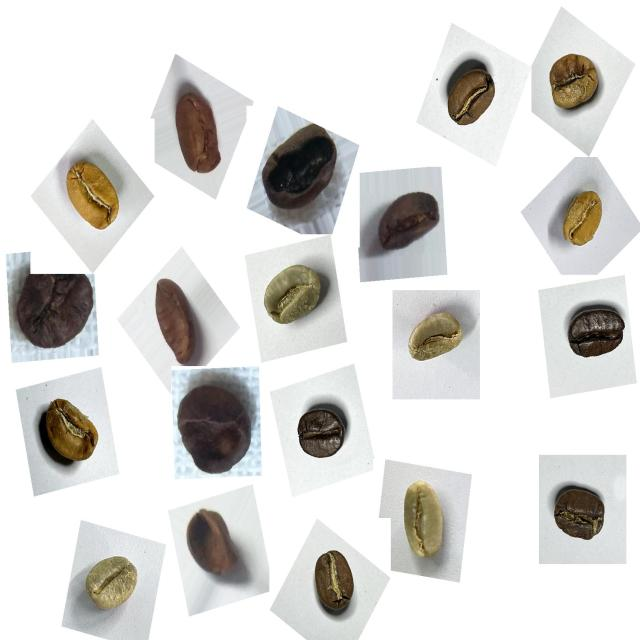bad: (170, 364, 258, 484), (6, 255, 102, 363), (254, 111, 344, 226), (164, 76, 234, 188), (369, 174, 447, 266), (147, 271, 211, 371), (178, 502, 248, 590)
dark: (557, 294, 630, 378), (291, 389, 358, 473)
green: (387, 466, 459, 571), (255, 250, 331, 339), (77, 541, 147, 624), (398, 299, 472, 377)
light: (50, 149, 130, 245), (33, 390, 110, 479), (538, 38, 612, 124), (551, 182, 615, 258)
medium: (437, 53, 507, 138), (547, 476, 617, 557), (303, 542, 370, 622)
